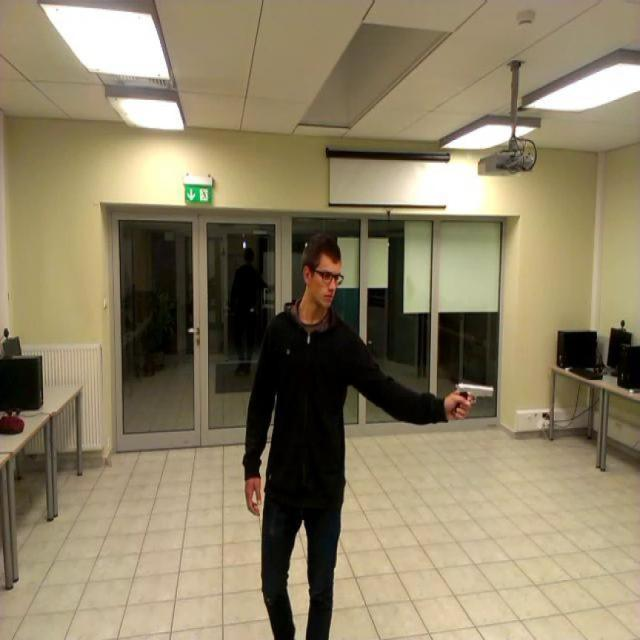pistol: (452, 381, 495, 416)
